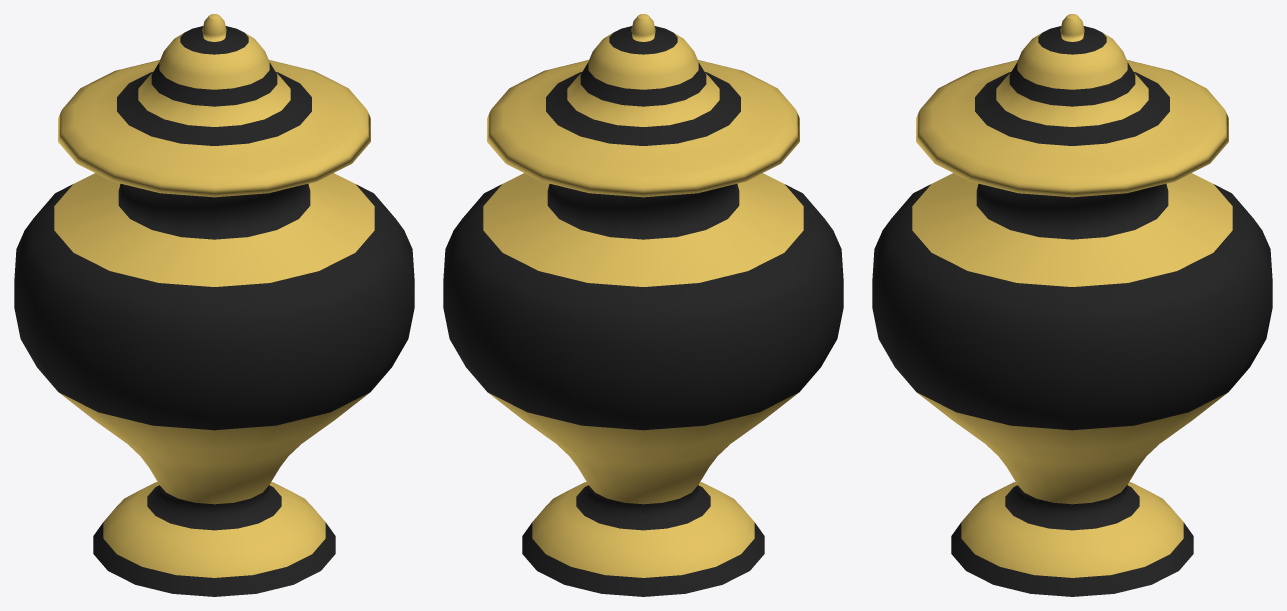
Rendered from Jarron3.fbx.
The picture shows the model from 3 angles, left to right: view 1: azimuth 30°, elevation 25°; view 2: azimuth 150°, elevation 25°; view 3: azimuth 270°, elevation 25°; orthographic projection.
Visible parts, largest first — view 1: Jarron3; view 2: Jarron3; view 3: Jarron3.
Part boxes in pixels (x1=…): Jarron3: x1=14, y1=14, x2=414, y2=596; Jarron3: x1=443, y1=14, x2=843, y2=596; Jarron3: x1=872, y1=14, x2=1272, y2=596.
Size of the model in its own units: 97.67 by 141 by 96.18.
